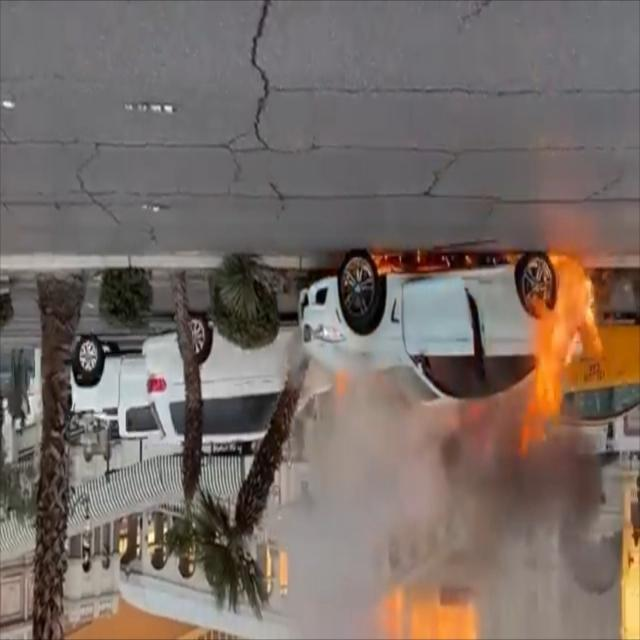fire: (502, 242, 599, 480)
